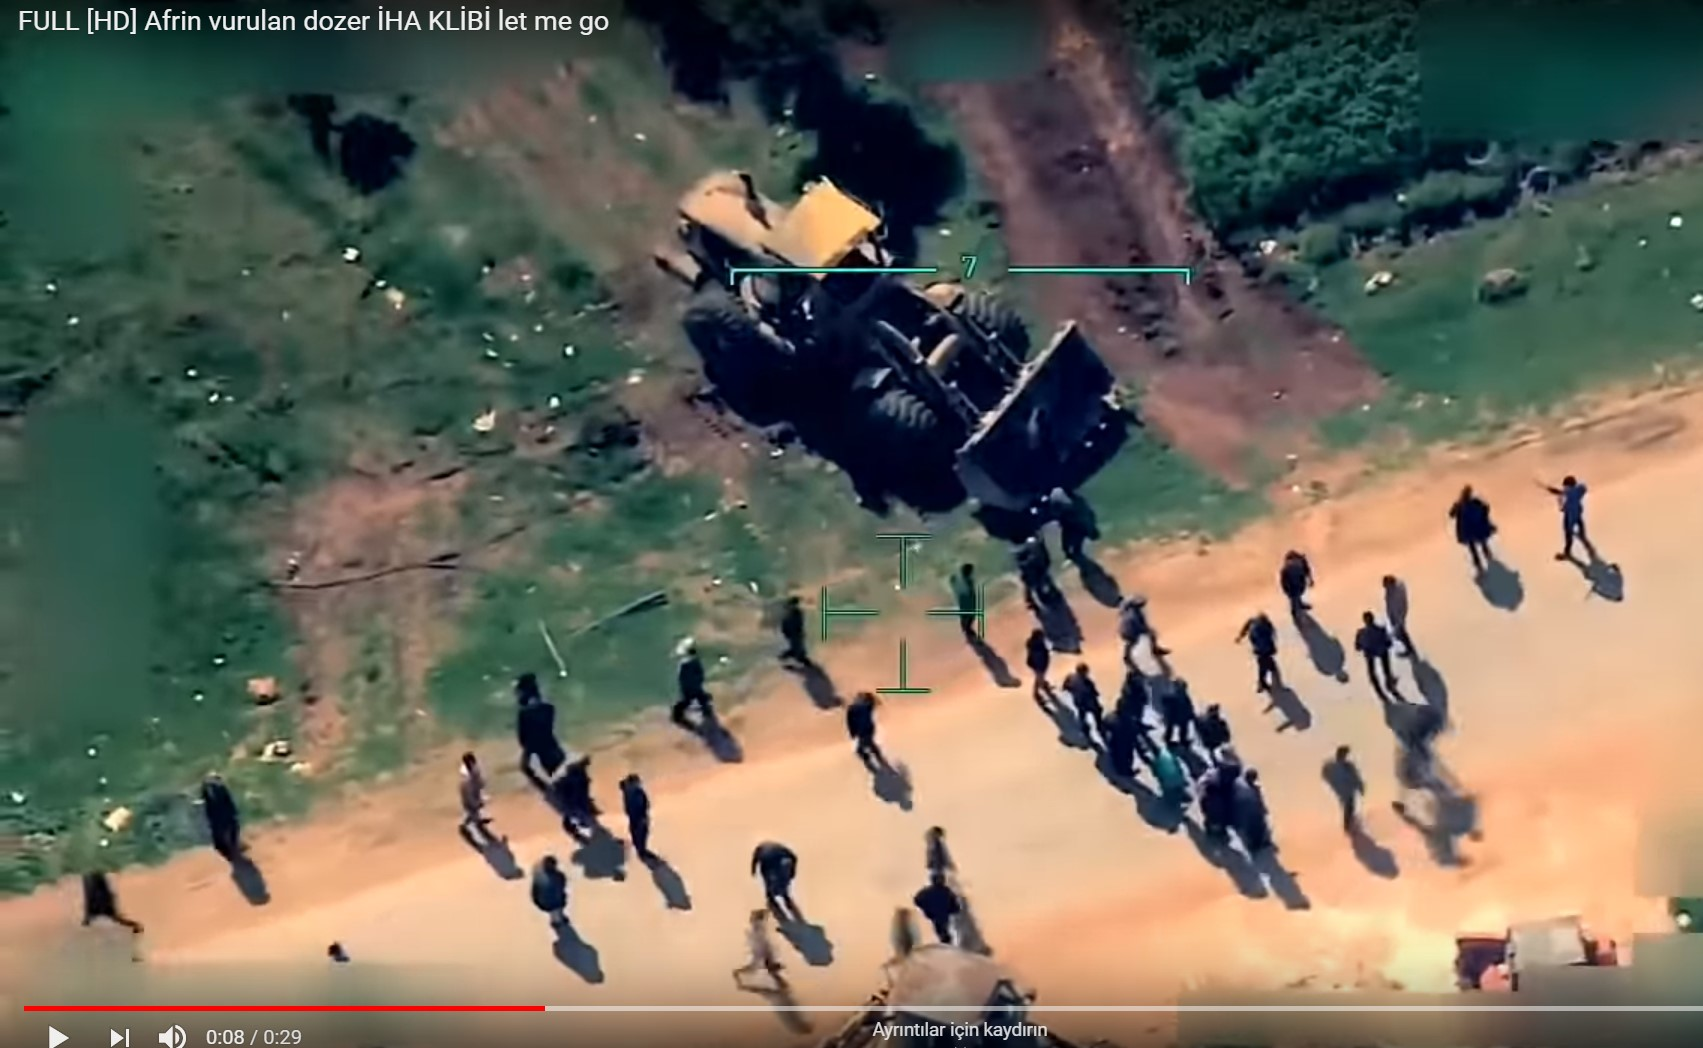araba: (655, 160, 1134, 531)
insan: (509, 676, 587, 784), (1539, 469, 1608, 575), (1050, 474, 1106, 591), (661, 632, 726, 728), (200, 756, 254, 870), (1110, 593, 1178, 684), (1229, 604, 1285, 706), (1450, 485, 1511, 576), (904, 871, 969, 954), (64, 876, 142, 943), (732, 913, 796, 994), (1319, 739, 1369, 839), (1377, 567, 1427, 664), (753, 835, 812, 915), (918, 819, 973, 905), (1352, 610, 1404, 699), (526, 850, 577, 938), (454, 744, 497, 844), (843, 678, 883, 771), (621, 766, 661, 859), (1065, 655, 1104, 745), (773, 592, 812, 678), (1014, 626, 1060, 703), (946, 554, 984, 634), (1278, 538, 1314, 623)
